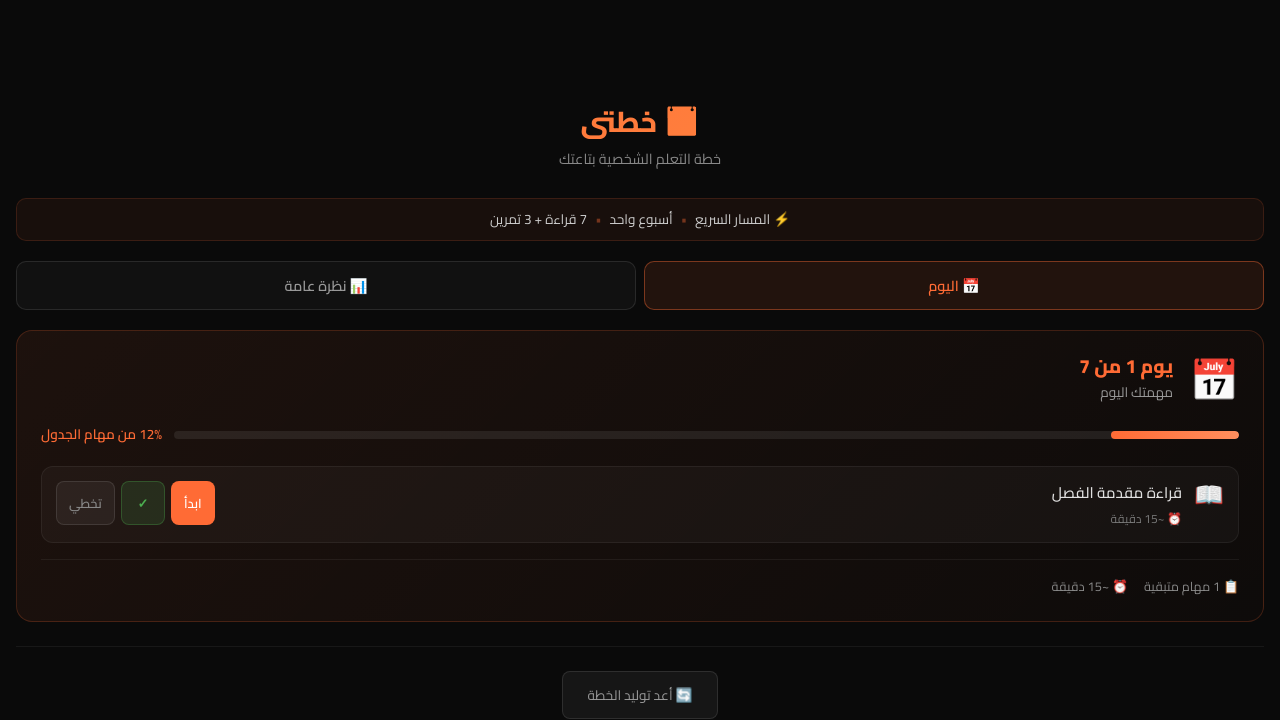
Test case: MyPlanPage displays saved plans and confirmed task updates › shows a rejected PATCH without marking the task complete or increasing progress
Click the button named "أكملت: قراءة مقدمة الفصل" at (143, 503), box [121, 481, 165, 525]
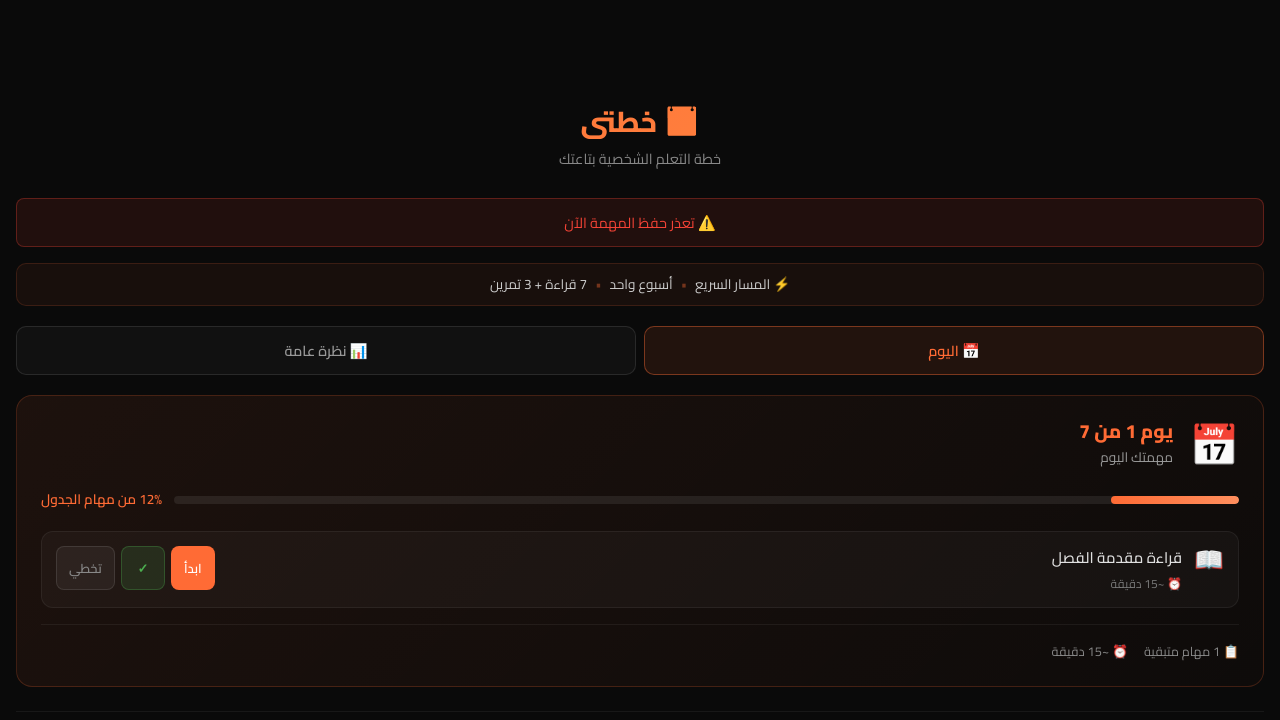
Expected: the button named "أكملت: قراءة مقدمة الفصل" is enabled, [121, 546, 165, 590]
Now the text "⚠️ تعذر حفظ المهمة الآن" is shown, box [16, 198, 1264, 247]
